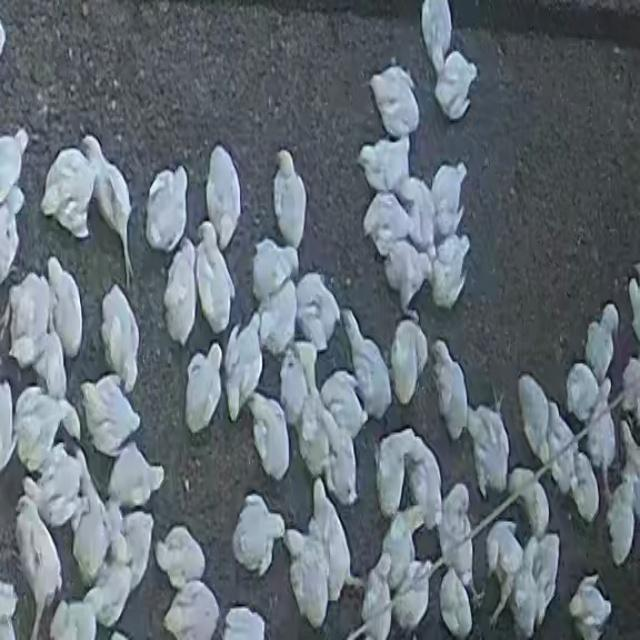chicken: (83, 137, 136, 281), (14, 496, 65, 632), (375, 430, 442, 526), (24, 440, 94, 528), (13, 387, 83, 471), (68, 461, 114, 584), (40, 147, 98, 241), (341, 310, 390, 421), (310, 477, 352, 604), (284, 521, 333, 627), (80, 376, 143, 457), (580, 380, 618, 502), (100, 282, 142, 392), (231, 494, 286, 576), (197, 220, 236, 335), (518, 530, 561, 634), (464, 404, 510, 500), (6, 268, 51, 366), (544, 398, 585, 505), (106, 439, 166, 512), (482, 518, 522, 623), (225, 316, 265, 418), (295, 392, 337, 489), (378, 508, 424, 596), (362, 190, 418, 262), (382, 238, 432, 318), (429, 340, 469, 440), (348, 554, 394, 640), (153, 522, 209, 592), (247, 395, 291, 484), (163, 238, 199, 346), (205, 145, 242, 250), (368, 64, 421, 137), (48, 255, 85, 359), (388, 554, 434, 636), (146, 165, 188, 254), (83, 556, 136, 626), (184, 344, 225, 434), (294, 273, 341, 351), (116, 511, 156, 602), (319, 371, 366, 448), (322, 411, 360, 505), (272, 148, 307, 250), (163, 580, 223, 639), (389, 318, 429, 404), (258, 276, 300, 356), (251, 237, 299, 306), (359, 136, 413, 196), (430, 162, 469, 244), (430, 232, 470, 311), (436, 56, 482, 119), (518, 374, 552, 459), (507, 473, 549, 541), (279, 340, 311, 429), (568, 575, 612, 638), (584, 305, 618, 384), (438, 565, 473, 639), (605, 488, 638, 566), (419, 0, 456, 69), (569, 449, 600, 527), (401, 176, 435, 245), (566, 362, 600, 425)
